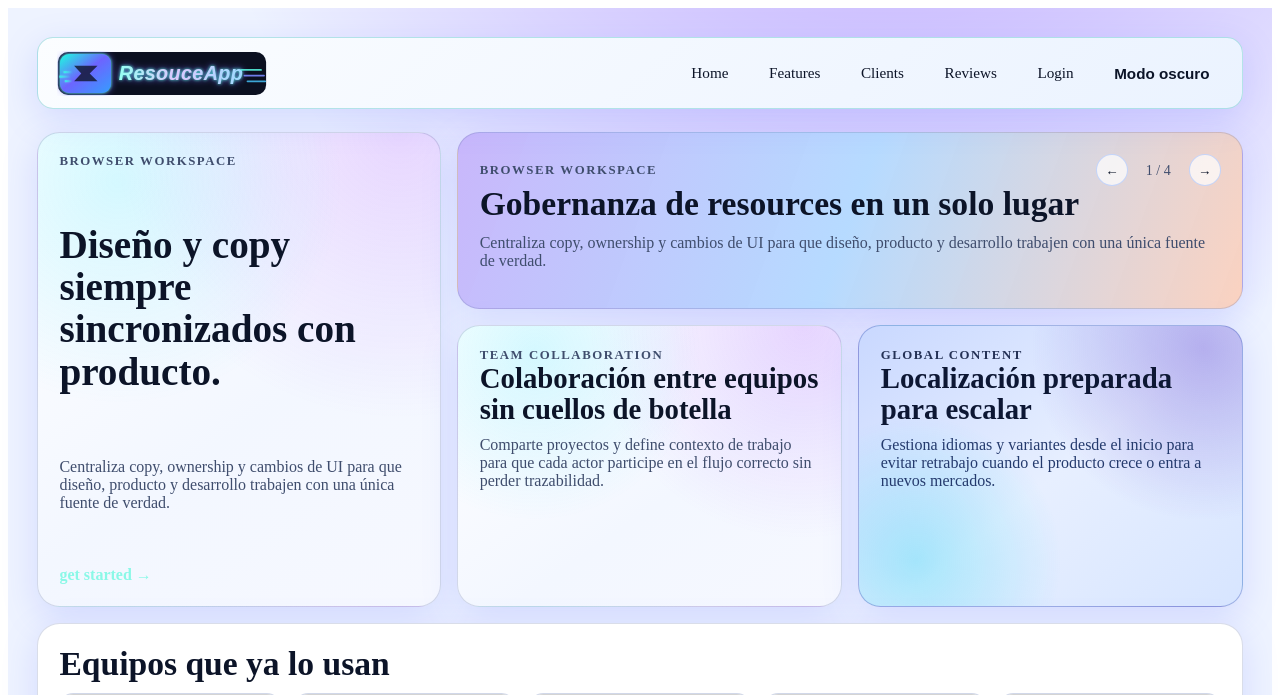
it: App Home/Login/Projects flow › moves featured carousel to the next item
Expected: the heading "Gobernanza de resources en un solo lugar" is shown, [480, 185, 1079, 222]
Click the button named "Siguiente funcionalidad" at [1205, 170], box [1189, 154, 1221, 186]
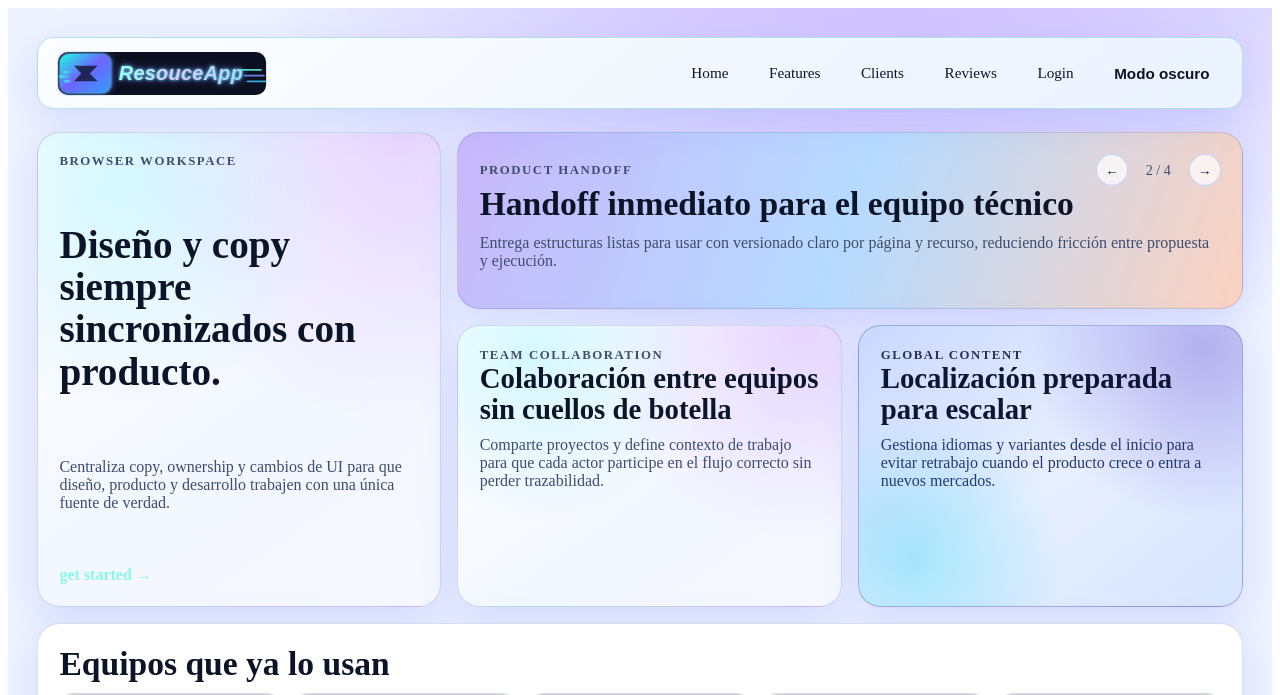
Result: the heading "Handoff inmediato para el equipo técnico" is shown at [480, 185, 1074, 222]
